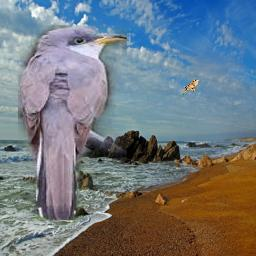Cuckoo: (19, 26, 128, 221)
Sparrow: (183, 79, 200, 95)
